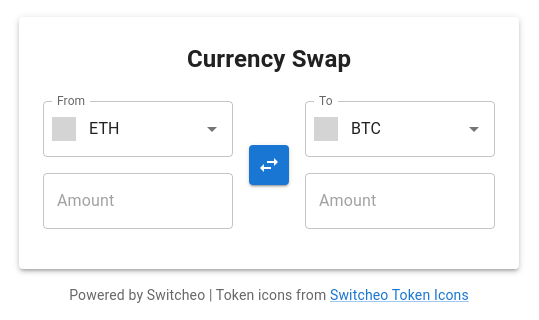
Scenario: App › performs token swap correctly
This screenshot has width=539, height=320.
Expected: the dropdown labelled "From" holds "ETH", [84,110,194,148]
// Click swap button
Click the button named "Swap tokens".
click(269, 165)  # box [249,145,289,185]
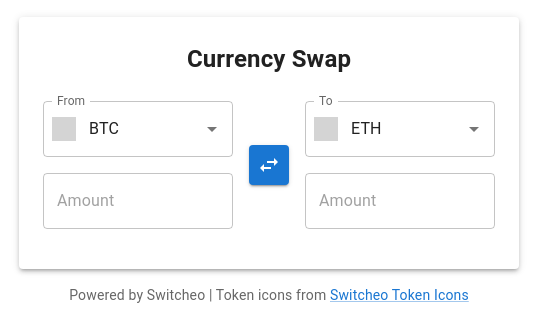
Result: the dropdown labelled "From" holds "BTC" at [84,110,194,148]
Result: the dropdown labelled "To" holds "ETH" at [346,110,456,148]
